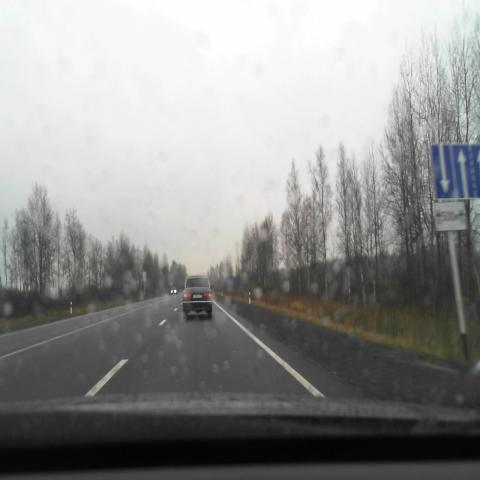5_15_7: (430, 144, 480, 199)
